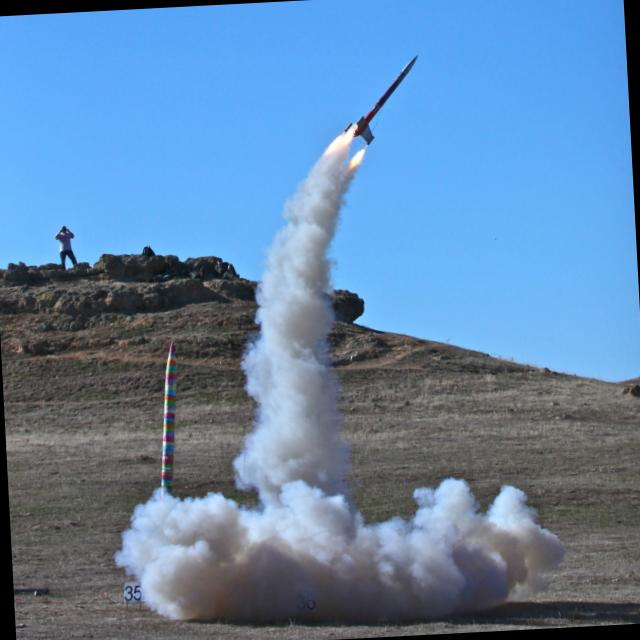rocket: (270, 48, 435, 245)
